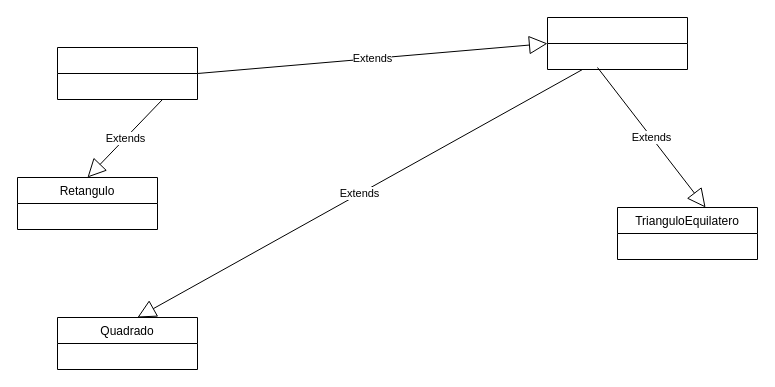
Some shapes in this 775 by 387 pixel diagram are drawn without their labels. The shapes that lost their labels are listed below. From the top down, each one's centre as x and y in pixels, then its label:
At point (617, 43): "PoligonoRegular".
At point (127, 73): "Poligono".
